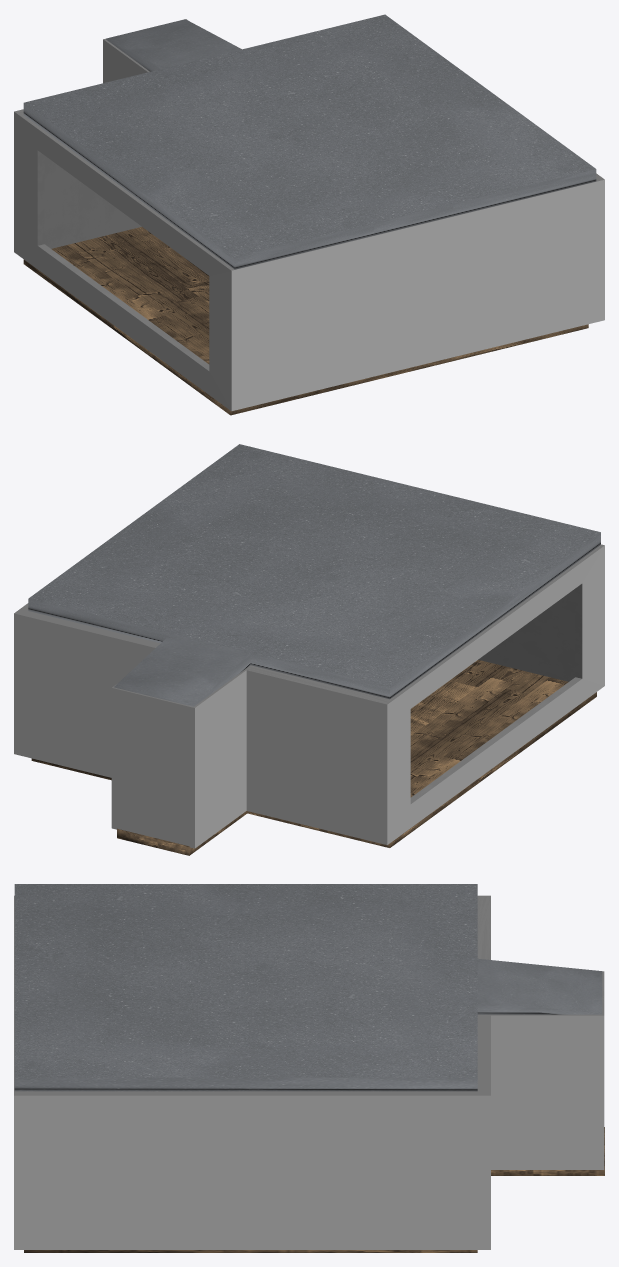
The model's file is Chambre.fbx.
3 renders of one model, top to bottom at view 1: azimuth 30°, elevation 25°; view 2: azimuth 150°, elevation 25°; view 3: azimuth 270°, elevation 25°, orthographic. The views are drawn at different scales.
Visible parts, largest first — view 1: Plafond, Mur, Sol; view 2: Plafond, Mur, Sol; view 3: Plafond, Mur, Sol.
Boxes of the visible parts, bbox=[...] form: Plafond: bbox=[23, 14, 596, 269]; Mur: bbox=[14, 19, 604, 411]; Sol: bbox=[23, 227, 588, 415]; Plafond: bbox=[28, 444, 600, 706]; Mur: bbox=[14, 544, 604, 848]; Sol: bbox=[31, 660, 596, 855]; Plafond: bbox=[14, 884, 602, 1091]; Mur: bbox=[14, 895, 604, 1249]; Sol: bbox=[24, 1127, 604, 1252].
Bounding box in the file's own units: 834 × 344 × 1042.
